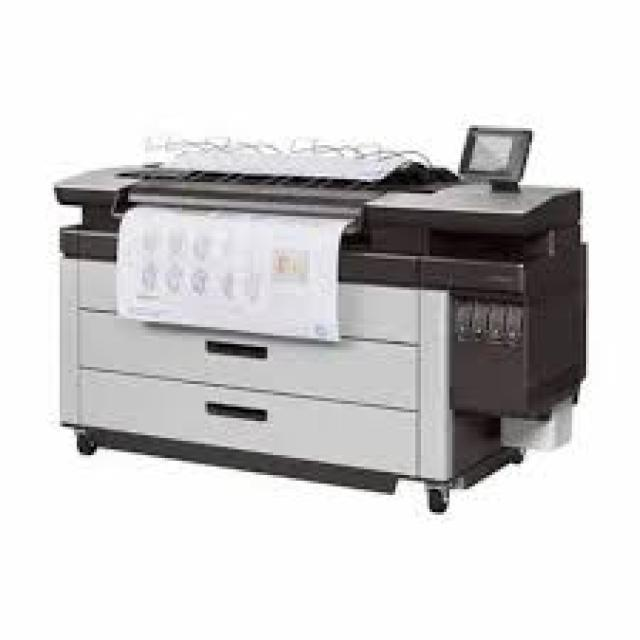printer: (51, 122, 589, 512)
